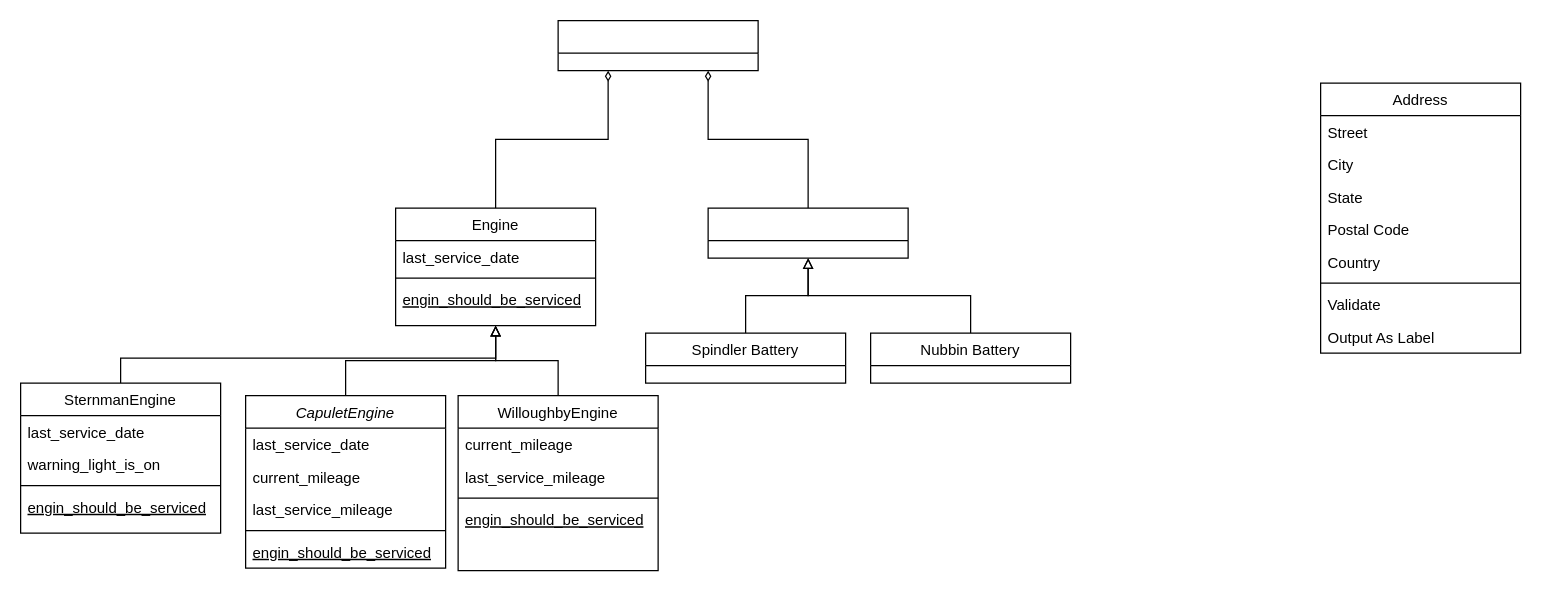
This 1541x591 diagram has some shape labels left out. The centre of each missing label's shape, as x and y in pixels:
Battery: point (807, 232)
Car: point (657, 45)
